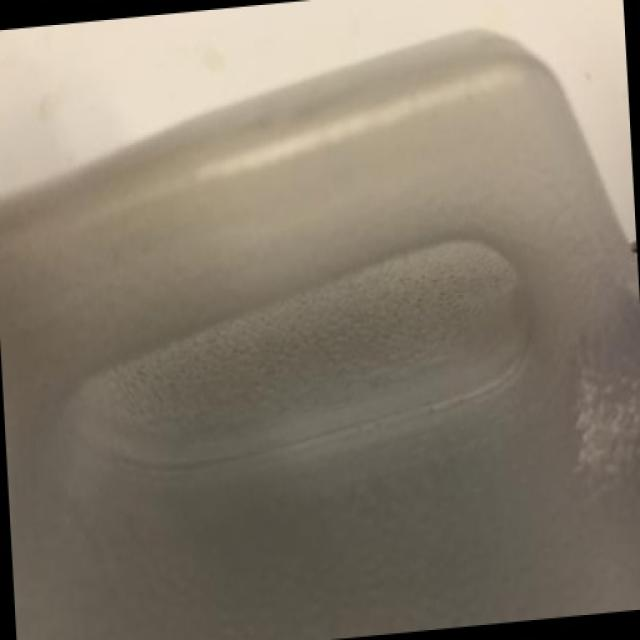plastico: (12, 21, 640, 616)
